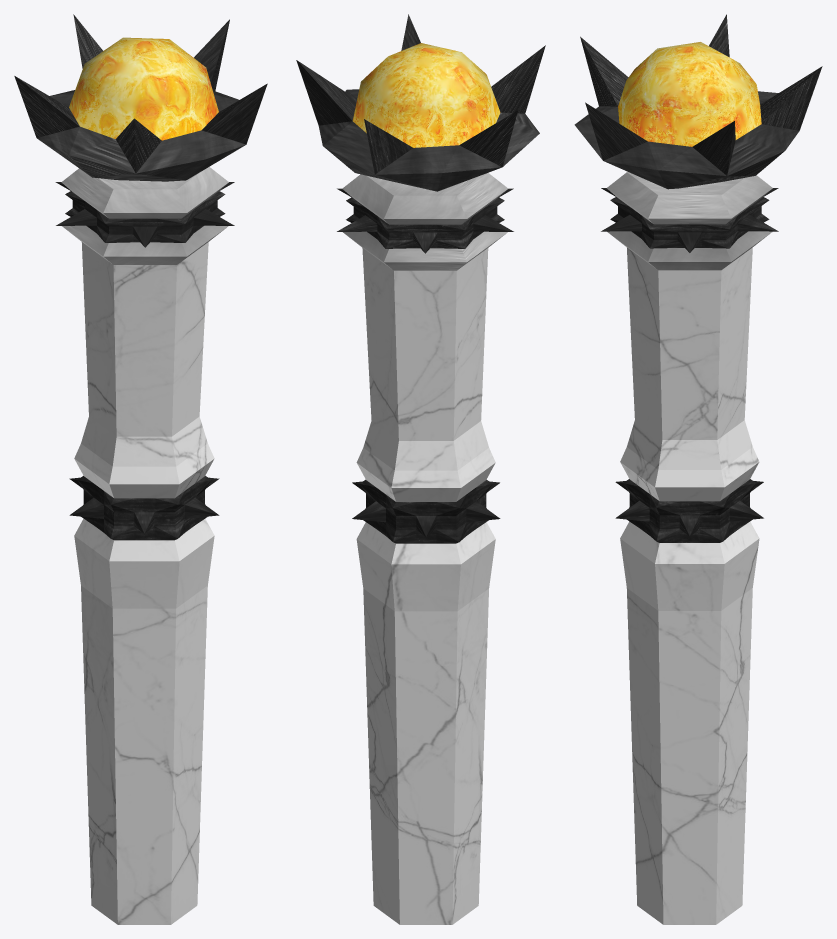
Rendered from torch.fbx.
The picture shows the model from 3 angles, left to right: view 1: azimuth 30°, elevation 25°; view 2: azimuth 150°, elevation 25°; view 3: azimuth 270°, elevation 25°; orthographic projection.
Parts seen in each view (by area): view 1: torch; view 2: torch; view 3: torch.
Boxes of the visible parts, bbox=[...] form: torch: bbox=[14, 14, 267, 924]; torch: bbox=[296, 14, 545, 924]; torch: bbox=[574, 14, 822, 924].
Size of the model in its own units: 101 by 379 by 99.35.
